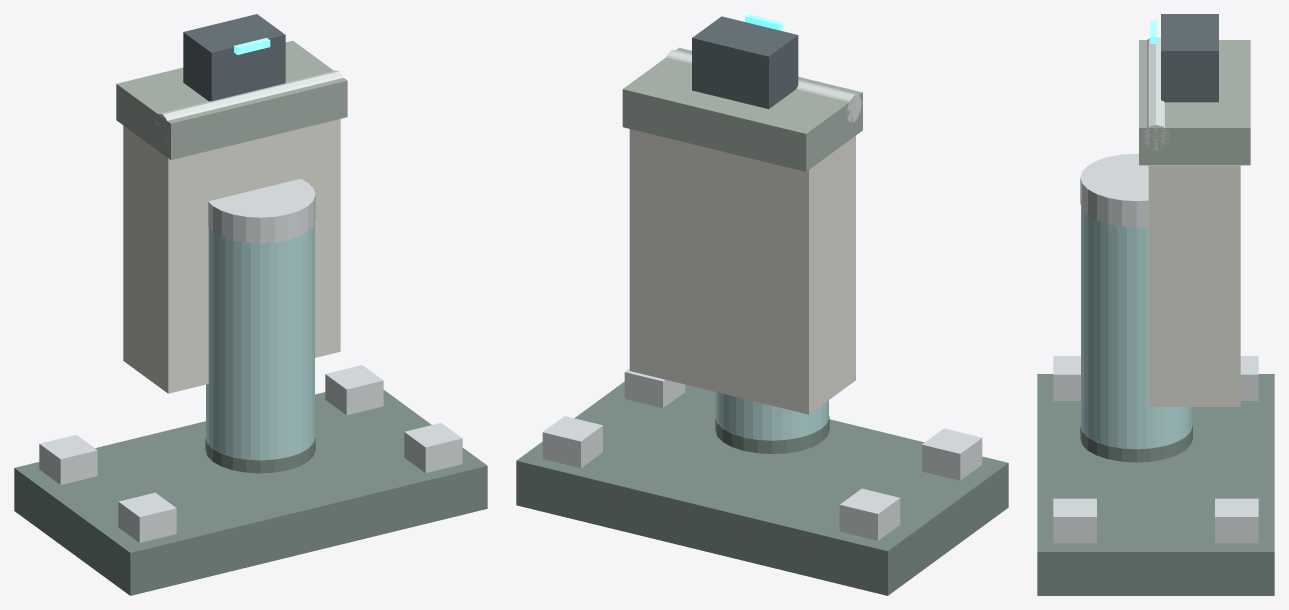
The model's file is s7-i02-filter-single.glb.
The picture shows the model from 3 angles, left to right: view 1: azimuth 30°, elevation 25°; view 2: azimuth 150°, elevation 25°; view 3: azimuth 270°, elevation 25°; orthographic projection. The views are drawn at different scales.
Visible parts, largest first — view 1: 000_reinforced_industrial_base, 005_filtration_backplate, 007_filter_translucent_canister_0, 006_water_manifold_top, 015_filter_status_controller, 009_steel_filter_cap_0, 001_mounting_foot, 003_mounting_foot, 004_mounting_foot, 002_mounting_foot, 014_cleanwater_trunk, 010_filter_bottom_lock_0; view 2: 005_filtration_backplate, 000_reinforced_industrial_base, 006_water_manifold_top, 015_filter_status_controller, 007_filter_translucent_canister_0, 001_mounting_foot, 002_mounting_foot, 003_mounting_foot, 010_filter_bottom_lock_0, 004_mounting_foot, 014_cleanwater_trunk; view 3: 000_reinforced_industrial_base, 005_filtration_backplate, 007_filter_translucent_canister_0, 006_water_manifold_top, 015_filter_status_controller, 009_steel_filter_cap_0, 003_mounting_foot, 004_mounting_foot, 014_cleanwater_trunk, 010_filter_bottom_lock_0, 002_mounting_foot, 001_mounting_foot.
Part boxes in pixels (x1,y1,x2,y2): 000_reinforced_industrial_base: [14, 390, 487, 595]; 005_filtration_backplate: [123, 119, 340, 393]; 007_filter_translucent_canister_0: [206, 222, 314, 460]; 006_water_manifold_top: [116, 41, 347, 159]; 015_filter_status_controller: [183, 14, 285, 101]; 009_steel_filter_cap_0: [208, 179, 315, 243]; 001_mounting_foot: [39, 434, 97, 484]; 003_mounting_foot: [325, 365, 383, 415]; 004_mounting_foot: [404, 423, 462, 472]; 002_mounting_foot: [118, 492, 176, 542]; 014_cleanwater_trunk: [155, 70, 343, 140]; 010_filter_bottom_lock_0: [205, 436, 315, 473]; 005_filtration_backplate: [629, 129, 855, 414]; 000_reinforced_industrial_base: [516, 381, 1008, 595]; 006_water_manifold_top: [622, 47, 862, 171]; 015_filter_status_controller: [692, 16, 798, 108]; 007_filter_translucent_canister_0: [715, 392, 828, 440]; 001_mounting_foot: [839, 488, 900, 540]; 002_mounting_foot: [922, 428, 982, 480]; 003_mounting_foot: [542, 416, 602, 468]; 010_filter_bottom_lock_0: [715, 415, 829, 453]; 004_mounting_foot: [624, 368, 685, 407]; 014_cleanwater_trunk: [666, 49, 861, 122]; 000_reinforced_industrial_base: [1037, 374, 1274, 595]; 005_filtration_backplate: [1148, 165, 1240, 406]; 007_filter_translucent_canister_0: [1081, 206, 1192, 449]; 006_water_manifold_top: [1139, 40, 1250, 165]; 015_filter_status_controller: [1161, 14, 1218, 102]; 009_steel_filter_cap_0: [1080, 153, 1148, 227]; 003_mounting_foot: [1215, 498, 1258, 543]; 004_mounting_foot: [1053, 498, 1096, 543]; 014_cleanwater_trunk: [1142, 37, 1169, 150]; 010_filter_bottom_lock_0: [1080, 424, 1192, 462]; 002_mounting_foot: [1053, 356, 1080, 400]; 001_mounting_foot: [1240, 356, 1258, 400].
Bounding box in the file's own units: 0.87 × 1.09 × 0.49.
